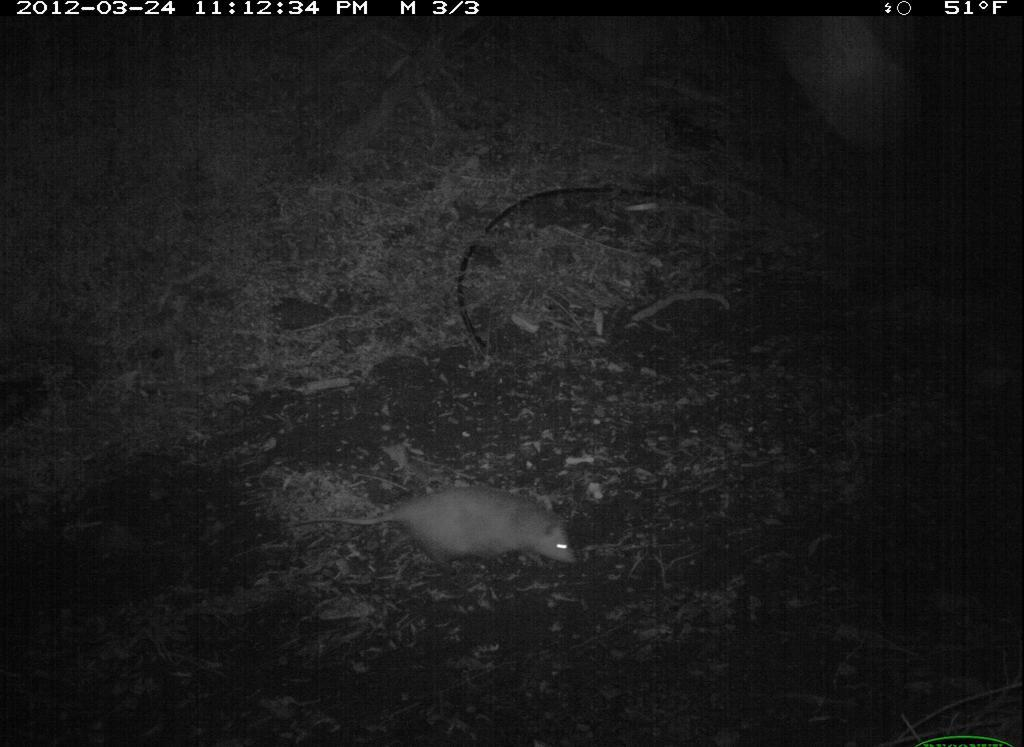opossum: (289, 479, 582, 582)
